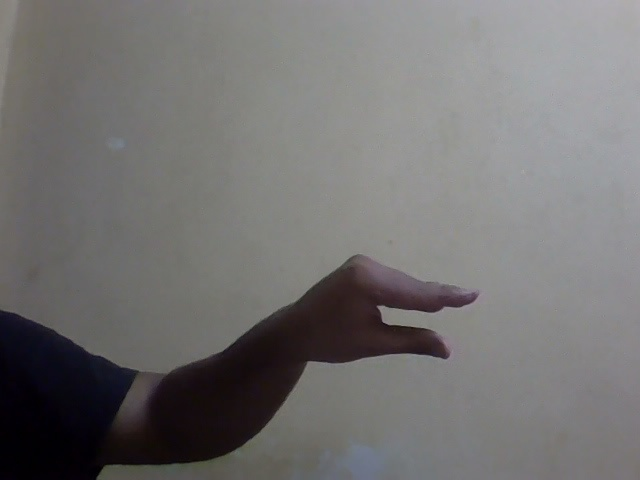No: (261, 238, 489, 386)
